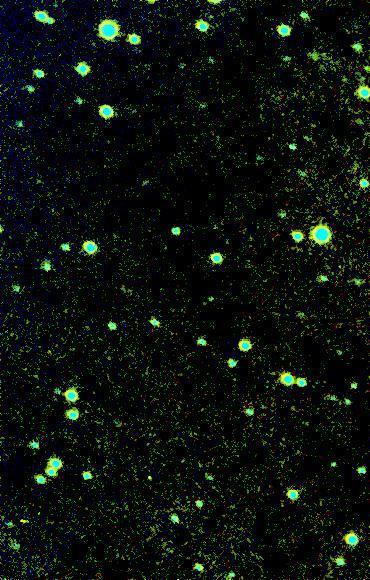star: (134, 464, 164, 494)
